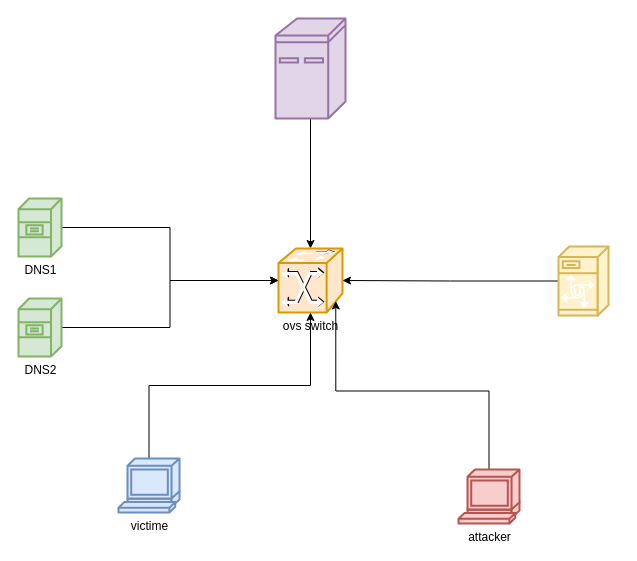
The diagram is 637 pixels wide and 561 high, and some of its shapes have lost their labels. Here are the shapes that lost their labels. From the top down, the centre of each, then its label:
(310,68): SDN controller
(583,280): FlowCollector
